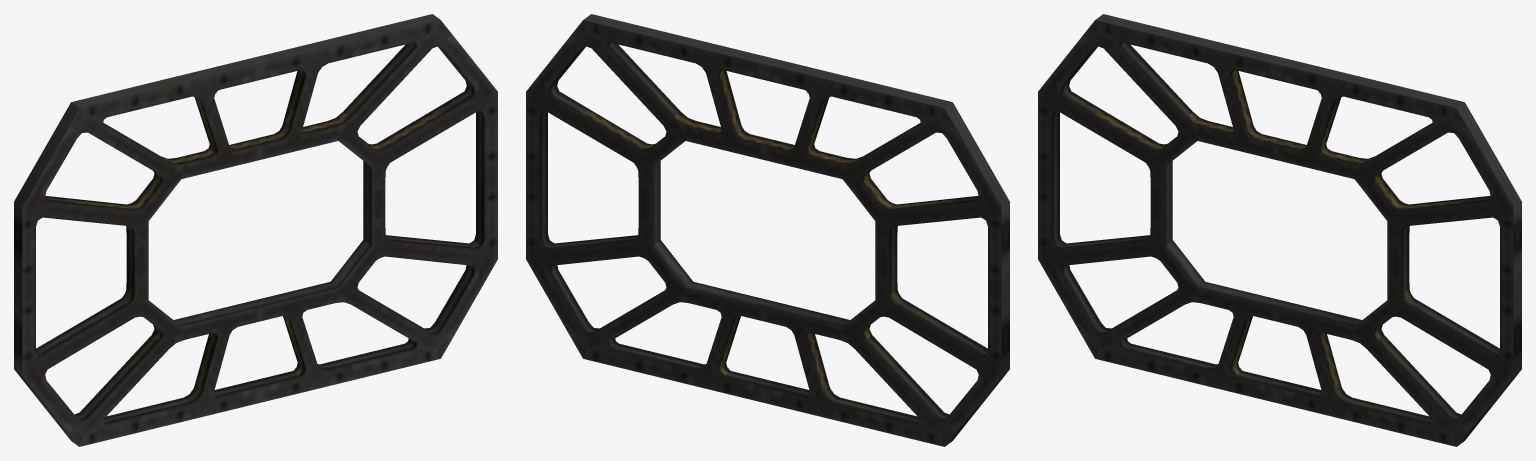
File: Bulkhead_3.FBX
The picture shows the model from 3 angles, left to right: view 1: azimuth 30°, elevation 25°; view 2: azimuth 150°, elevation 25°; view 3: azimuth 330°, elevation 25°; orthographic projection.
Visible parts, largest first — view 1: Bulkhead_3; view 2: Bulkhead_3; view 3: Bulkhead_3.
Part boxes in pixels (x1,y1,x2,y2): Bulkhead_3: (14,14,497,446); Bulkhead_3: (526,14,1009,446); Bulkhead_3: (1038,14,1521,446).
Size of the model in its own units: 592 by 403 by 17.9.
